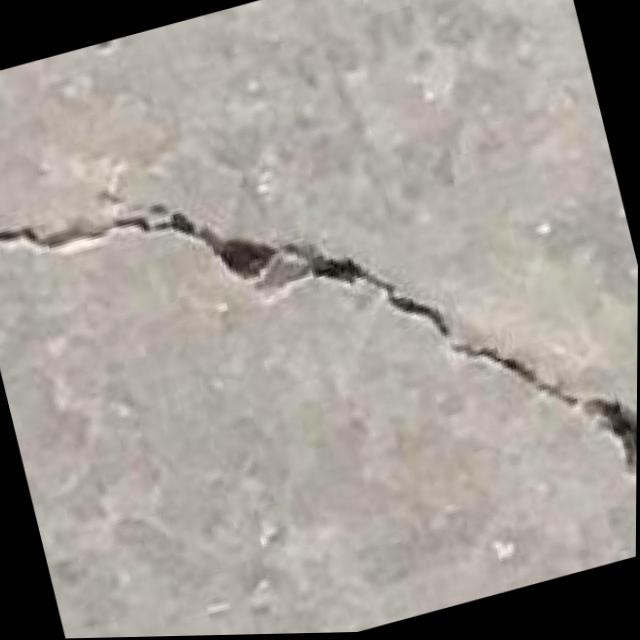Crack: (0, 42, 640, 640)
